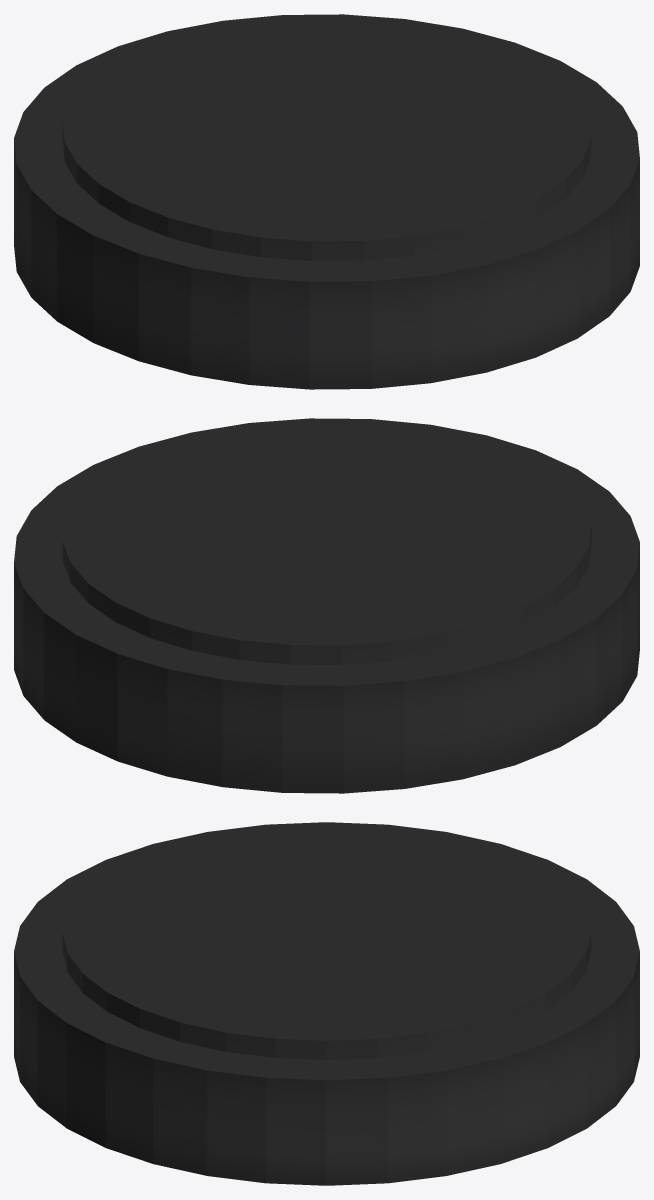
File: ThompsonMagDrumAttach.fbx
3 views of the same model, one above another, from view 1: azimuth 30°, elevation 25°; view 2: azimuth 150°, elevation 25°; view 3: azimuth 270°, elevation 25° (orthographic). The views are drawn at different scales.
Visible parts, largest first — view 1: node_9dd0f6f6_31ed_4a20_9721_c0e673ea2e27_mesh0; view 2: node_9dd0f6f6_31ed_4a20_9721_c0e673ea2e27_mesh0; view 3: node_9dd0f6f6_31ed_4a20_9721_c0e673ea2e27_mesh0.
Boxes of the visible parts, x1,y1,x2,y2 form: node_9dd0f6f6_31ed_4a20_9721_c0e673ea2e27_mesh0: [14, 14, 639, 389]; node_9dd0f6f6_31ed_4a20_9721_c0e673ea2e27_mesh0: [14, 418, 639, 793]; node_9dd0f6f6_31ed_4a20_9721_c0e673ea2e27_mesh0: [14, 822, 639, 1185].
Size of the model in its own units: 0.1 by 0.0226 by 0.1025.
